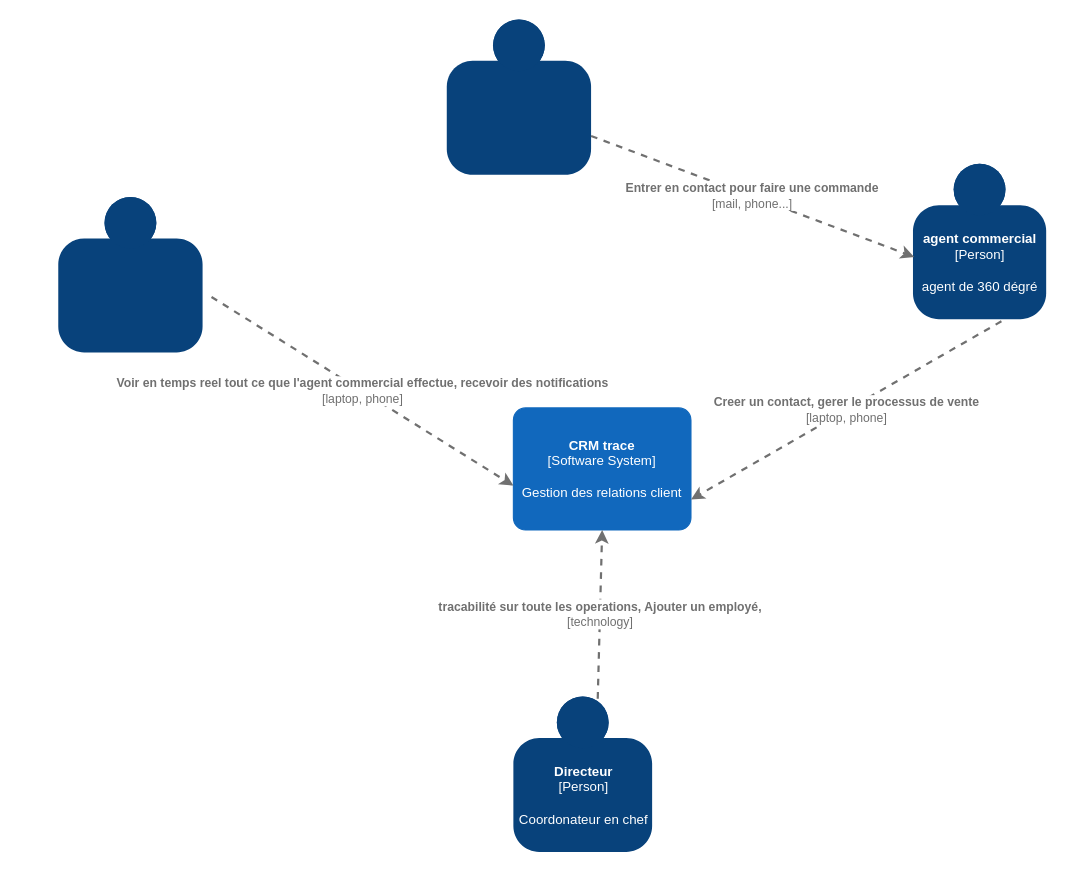
Image size: 1066x870. Some labels were removed from this diagram. Here are the shapes that lost their labels. From the top down, the centre of each, then its label:
At point 518,96: "Client [Person] potentiel acheteur".
At point 130,274: "Responsable financier [Person] Gerer la finance au sein de 360 dégré".
